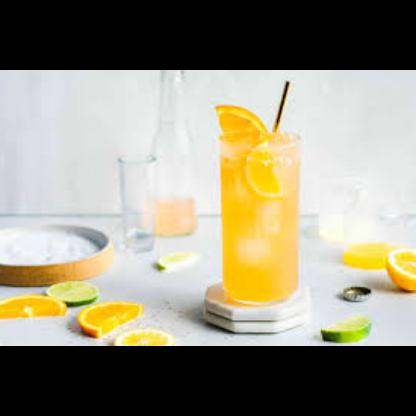orange juice: (219, 129, 303, 301)
